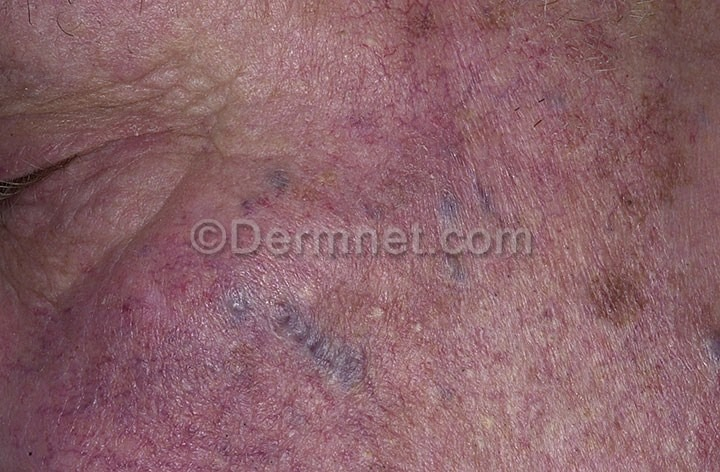Melasma: (2, 258, 720, 472), (3, 2, 720, 215), (535, 205, 720, 275), (9, 212, 191, 272)
